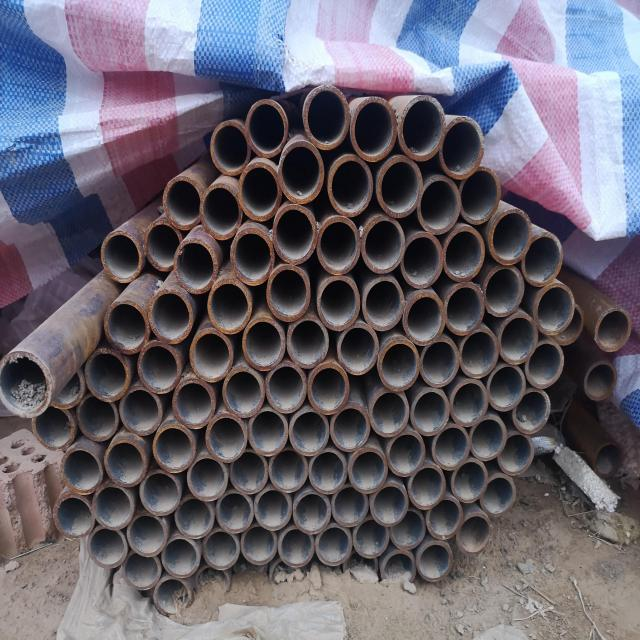pipe: (0, 347, 56, 421), (397, 88, 448, 163), (276, 138, 330, 206), (302, 83, 353, 152), (352, 93, 400, 165), (440, 112, 488, 184), (326, 151, 376, 219), (315, 212, 364, 276), (270, 203, 320, 264), (378, 153, 424, 219), (198, 180, 246, 243), (236, 161, 284, 224), (360, 212, 407, 276), (417, 171, 462, 236), (488, 205, 532, 268), (523, 228, 569, 288), (230, 226, 275, 287), (168, 237, 216, 294), (246, 99, 290, 161), (189, 327, 236, 385), (102, 301, 151, 356), (401, 228, 445, 289), (443, 222, 487, 283), (135, 342, 184, 396), (458, 167, 502, 227), (316, 274, 363, 330), (148, 288, 195, 344), (378, 335, 423, 393), (208, 121, 254, 177), (161, 175, 206, 232), (241, 319, 286, 376), (338, 320, 382, 378), (286, 315, 332, 370), (403, 291, 448, 347), (81, 352, 130, 403), (206, 281, 253, 334), (532, 284, 578, 338), (264, 360, 309, 415), (266, 266, 310, 322), (308, 360, 351, 416), (442, 284, 487, 337), (104, 437, 149, 490), (222, 364, 266, 418), (142, 218, 185, 273), (152, 421, 195, 476), (363, 277, 403, 335), (100, 229, 142, 283), (484, 264, 525, 319), (369, 388, 411, 441), (90, 484, 136, 532), (418, 338, 462, 388), (76, 393, 120, 443), (172, 379, 215, 430), (499, 313, 540, 366), (523, 340, 566, 390), (459, 331, 502, 381), (248, 406, 289, 458), (185, 455, 229, 503), (59, 447, 102, 496), (51, 492, 94, 541), (206, 414, 248, 464), (331, 402, 372, 453), (593, 303, 633, 355), (290, 405, 330, 457), (138, 468, 180, 517), (486, 363, 527, 413), (449, 378, 489, 429), (120, 386, 162, 434), (268, 446, 310, 494), (430, 424, 471, 473), (512, 385, 552, 434), (411, 388, 450, 438), (386, 429, 425, 479), (30, 409, 76, 451), (173, 495, 215, 541), (307, 450, 348, 497), (348, 446, 388, 494), (229, 447, 268, 496), (128, 511, 168, 558), (216, 488, 256, 535), (449, 458, 488, 506), (406, 466, 448, 510), (160, 536, 201, 580), (254, 487, 294, 532), (479, 472, 518, 518), (314, 524, 354, 568), (293, 490, 332, 535), (122, 551, 163, 593), (370, 484, 410, 527), (88, 525, 126, 570), (239, 524, 280, 565), (581, 358, 619, 402), (416, 540, 454, 584), (471, 417, 508, 462), (277, 525, 314, 570), (192, 562, 238, 598), (499, 432, 535, 478), (457, 511, 493, 557), (202, 528, 241, 570), (331, 484, 368, 528), (153, 576, 193, 616), (352, 518, 390, 560), (427, 495, 463, 539), (389, 510, 426, 551), (555, 301, 585, 349), (53, 370, 86, 413), (378, 552, 416, 588), (594, 441, 625, 479)
